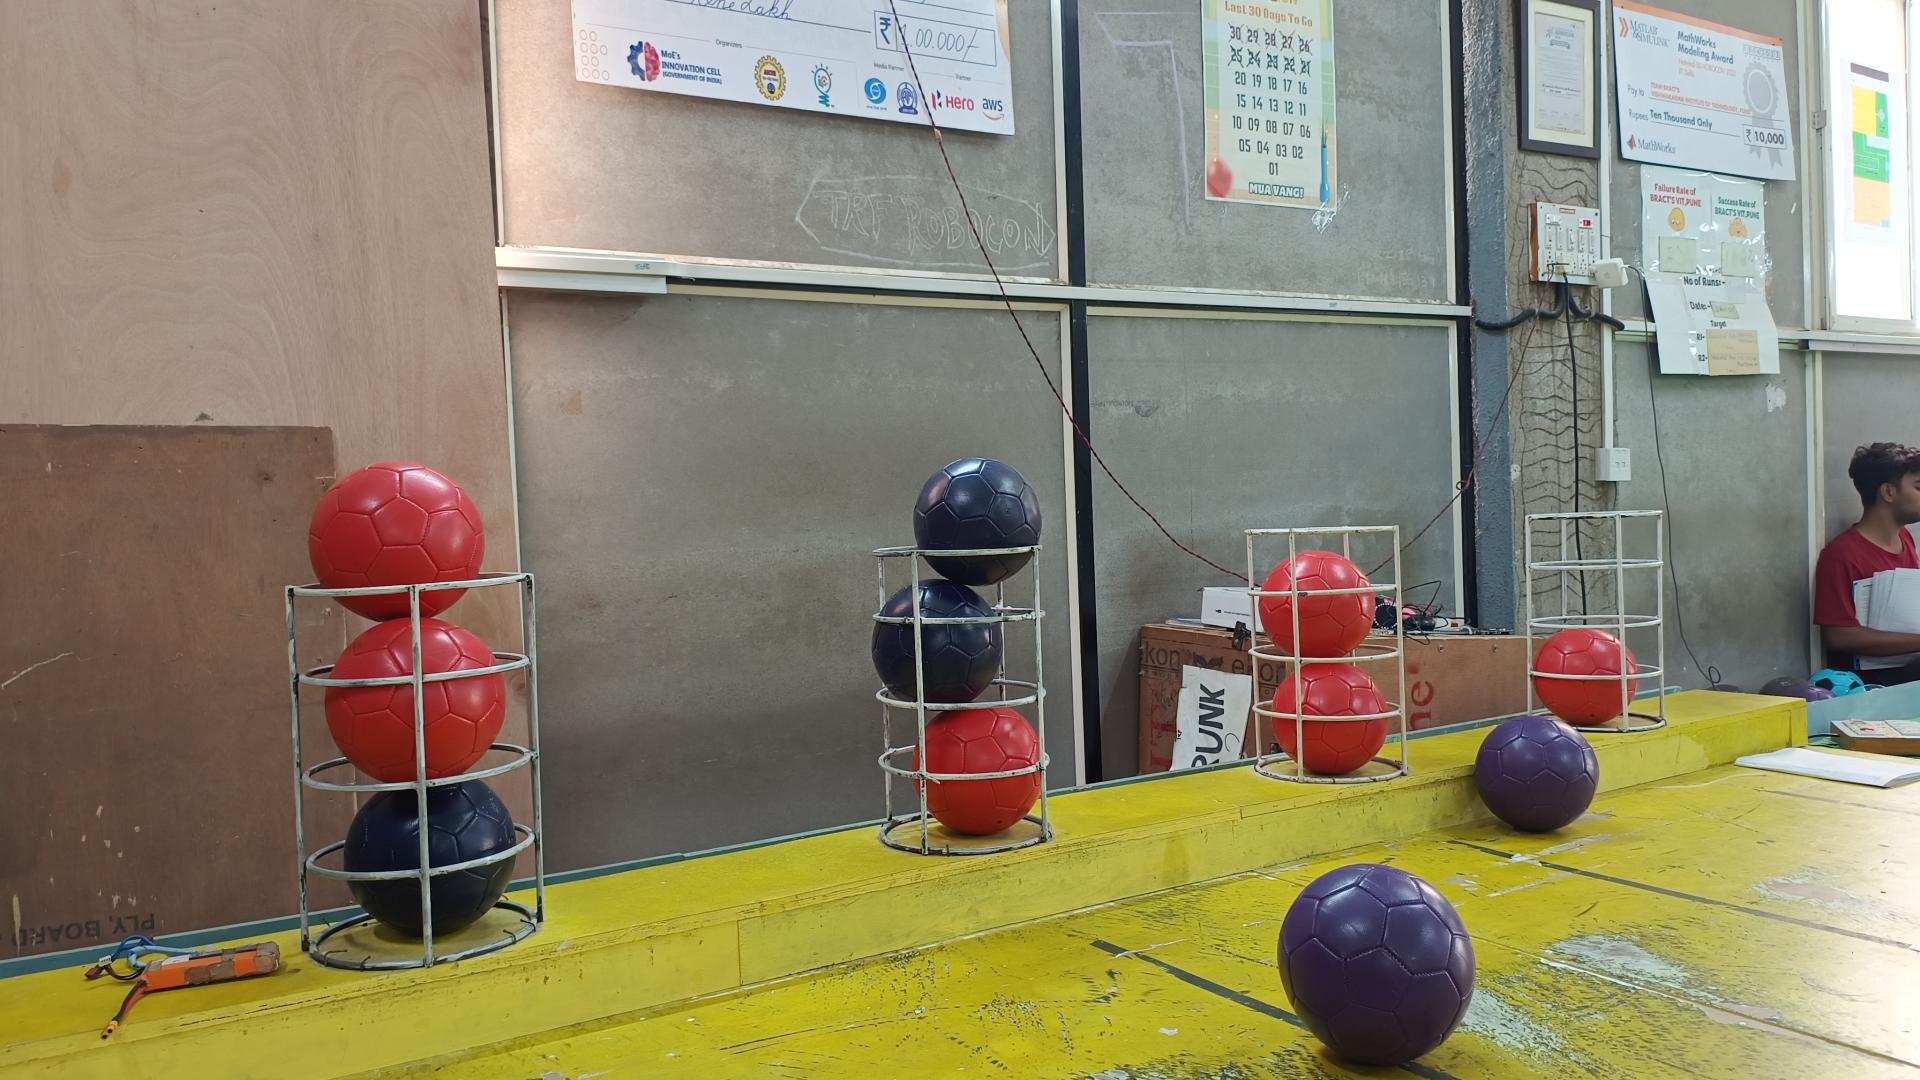dhoka: (343, 782, 516, 939), (869, 579, 1005, 707), (914, 458, 1040, 585)
laale: (327, 613, 508, 782), (309, 460, 481, 621), (911, 707, 1043, 839), (1270, 667, 1390, 775), (1259, 553, 1375, 657), (1534, 626, 1638, 724)
